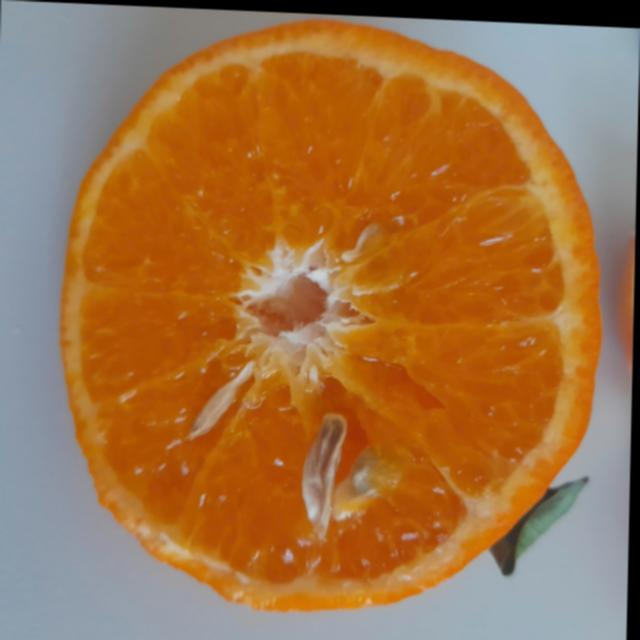Cam: (40, 6, 605, 625)
